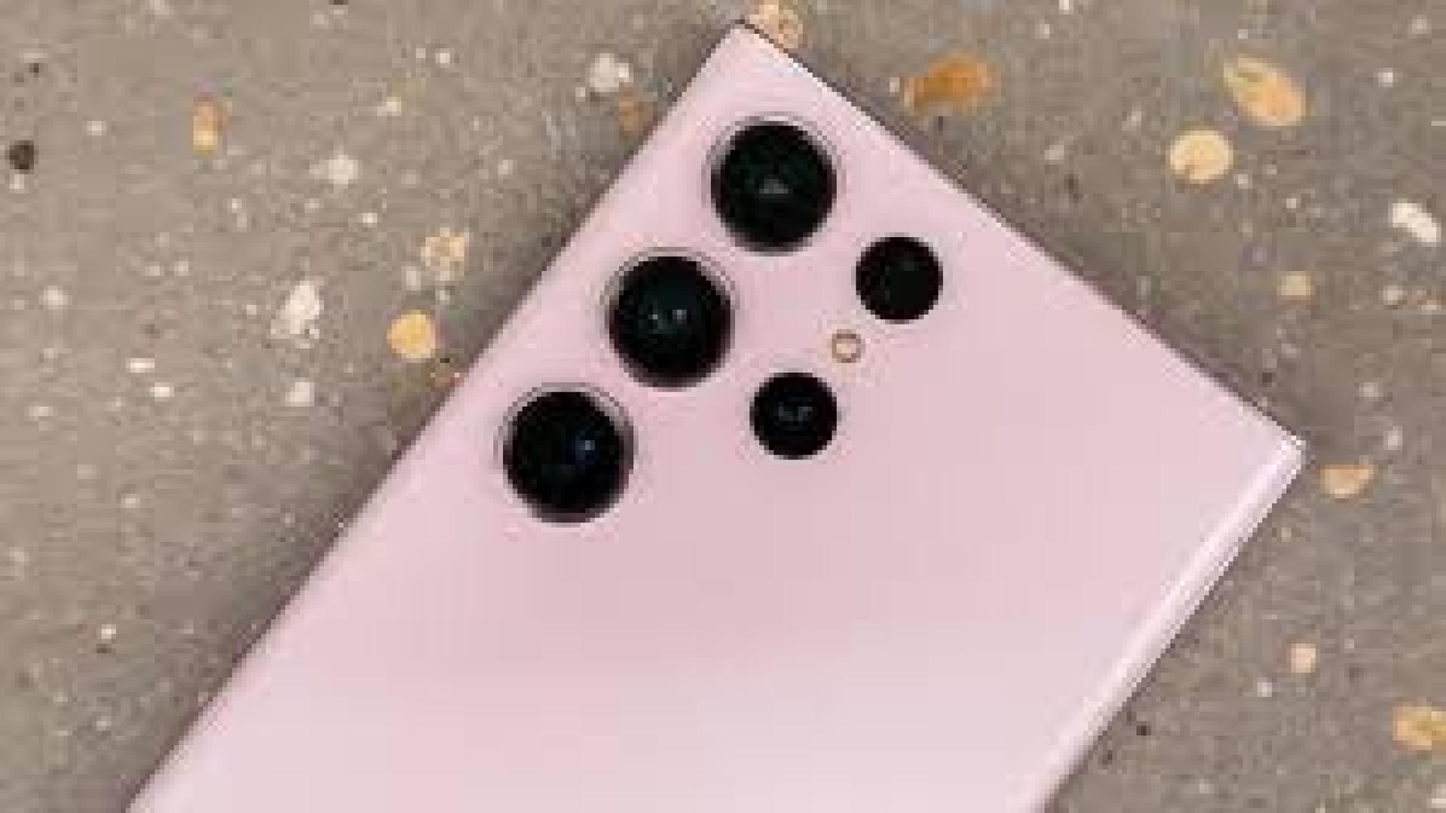phone: (115, 14, 1315, 813)
